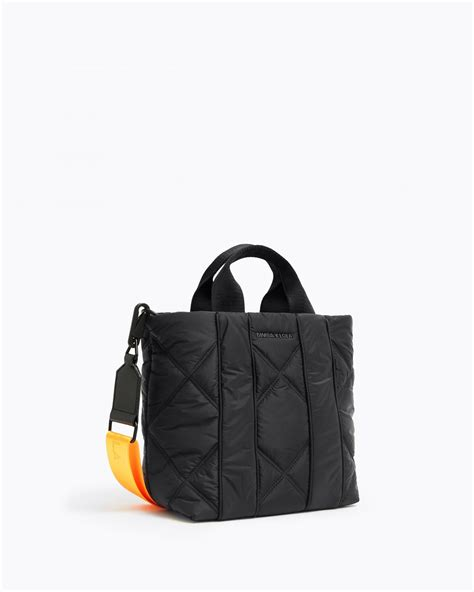nylon: (133, 307, 361, 522)
